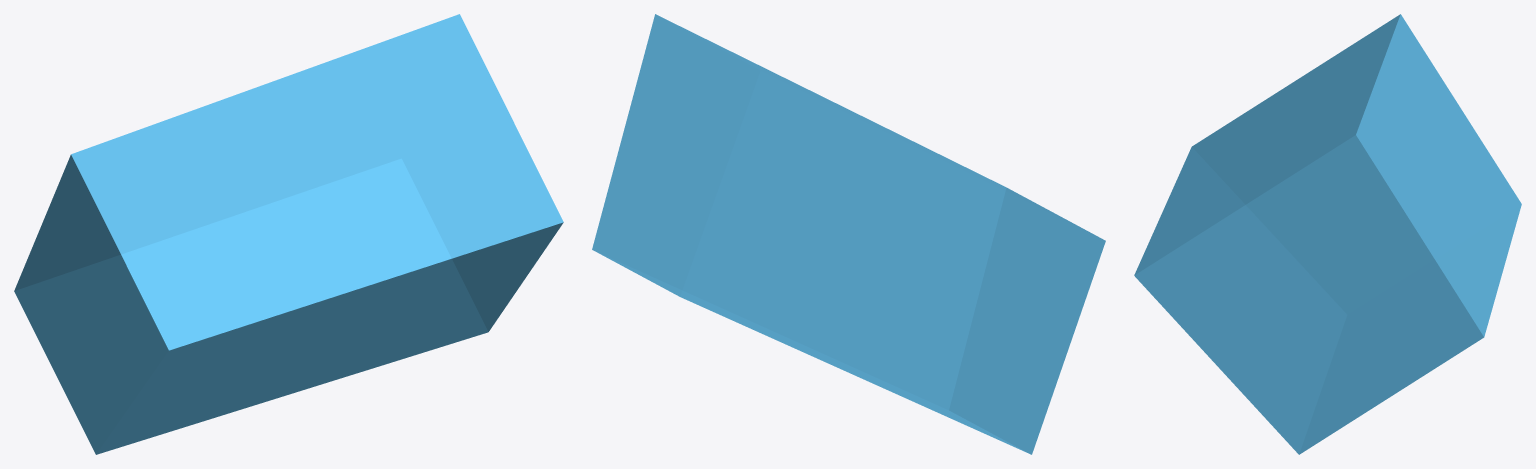
File: Event_420094457_HErechit_73.fbx
3 renders of one model, left to right at view 1: azimuth 30°, elevation 25°; view 2: azimuth 150°, elevation 25°; view 3: azimuth 270°, elevation 25°, orthographic. The views are drawn at different scales.
Visible parts, largest first — view 1: Model; view 2: Model; view 3: Model.
Boxes of the visible parts, x1=… form: Model: x1=14, y1=14, x2=563, y2=454; Model: x1=592, y1=14, x2=1105, y2=454; Model: x1=1134, y1=14, x2=1521, y2=454.
Size of the model in its own units: 0.6822 by 0.6139 by 0.5812.
